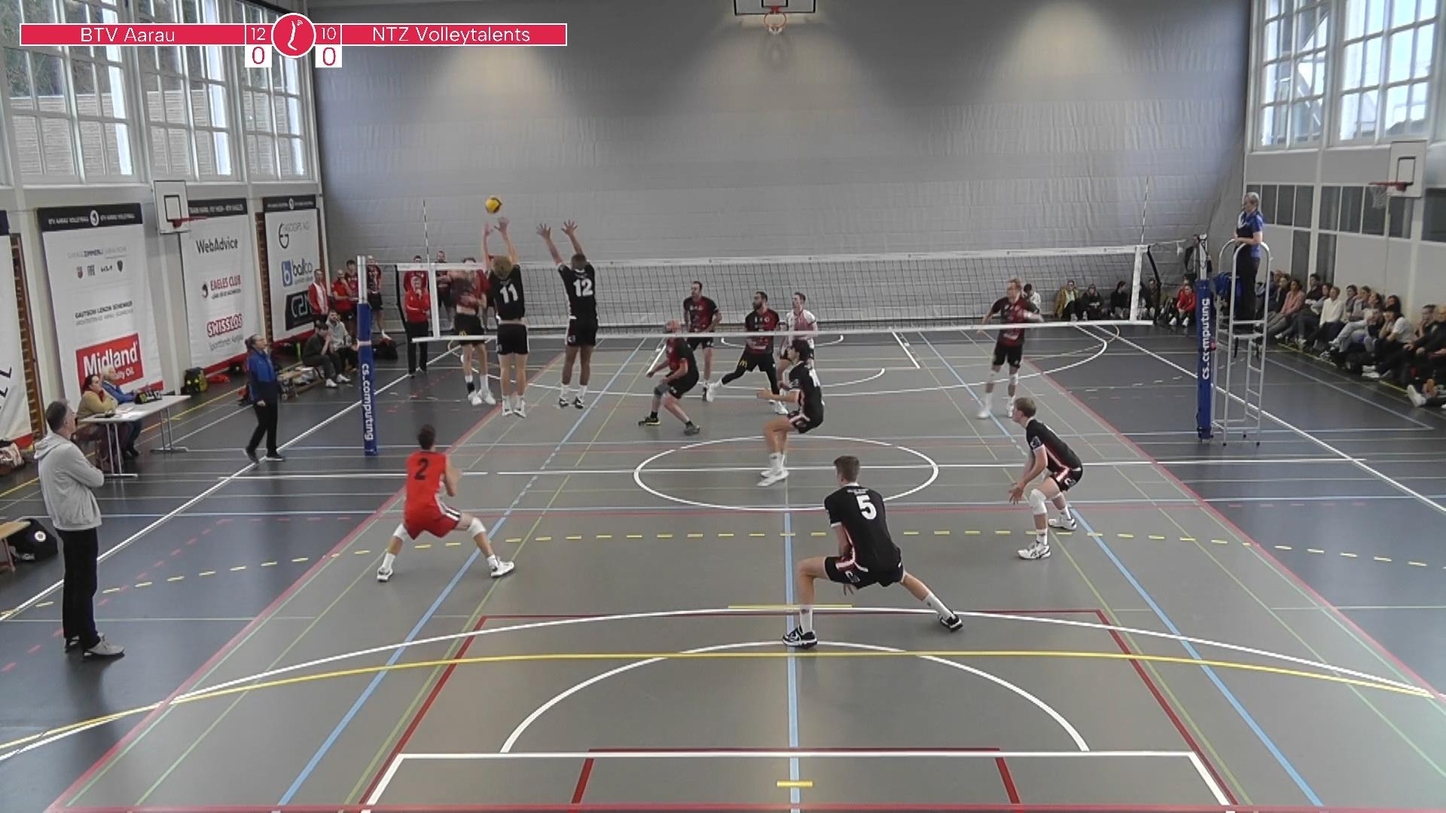attacco: (444, 245, 503, 409)
muro: (464, 216, 549, 421), (534, 216, 615, 416)
